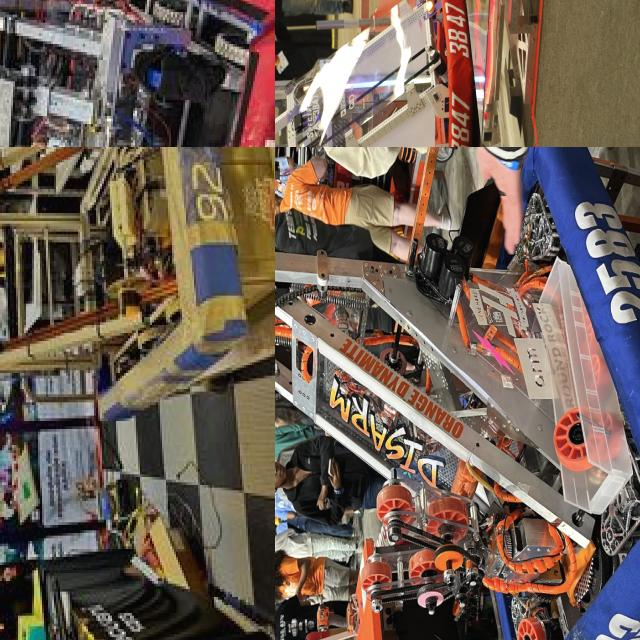FRC-Robots: (275, 147, 640, 640), (0, 147, 234, 413), (0, 0, 275, 147), (275, 0, 481, 147)
